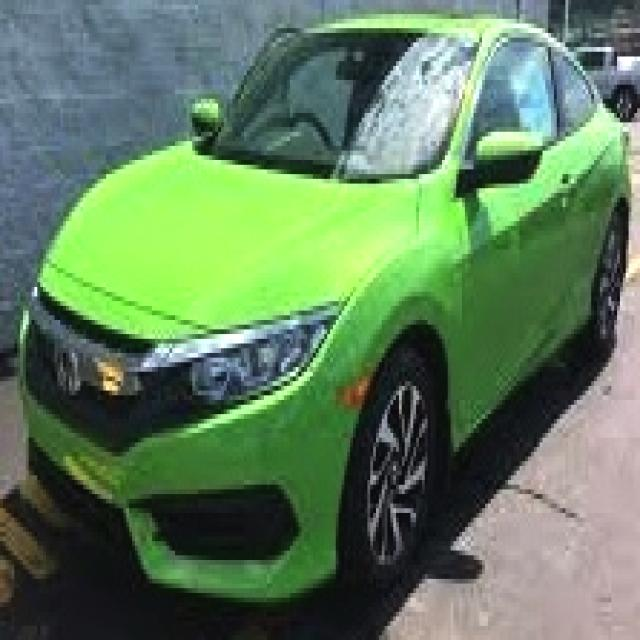green: (28, 0, 626, 625)
